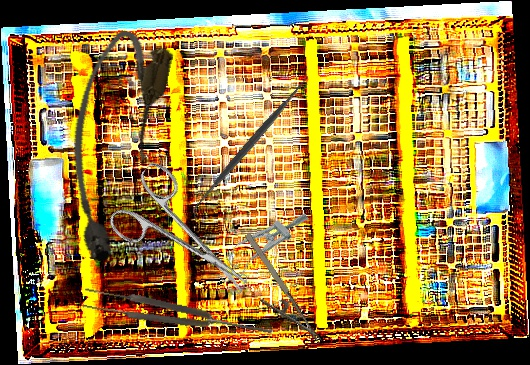Cannula: (44, 24, 177, 267)
Iris Scissors: (100, 157, 271, 322)
Needle Holder: (226, 230, 323, 358)
Spatula Surgical: (182, 69, 318, 221)
Speculum: (209, 196, 315, 298)
Tissue Forceps: (81, 284, 275, 346)
